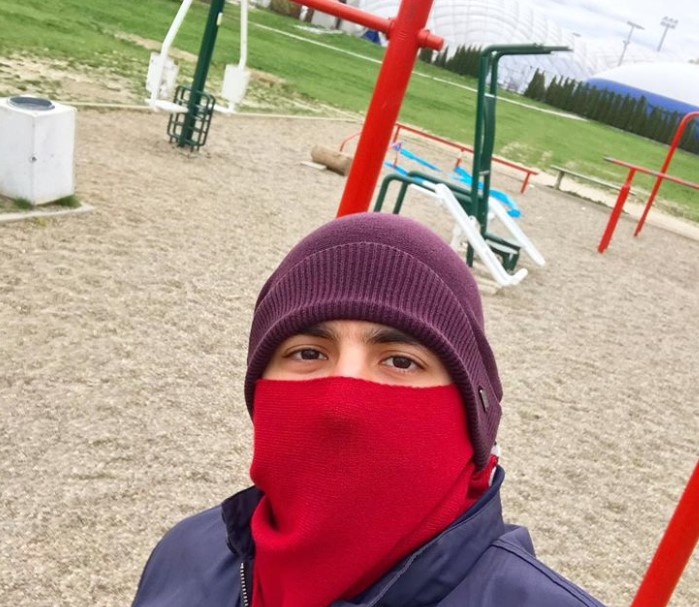face_with_mask: (252, 223, 490, 527)
